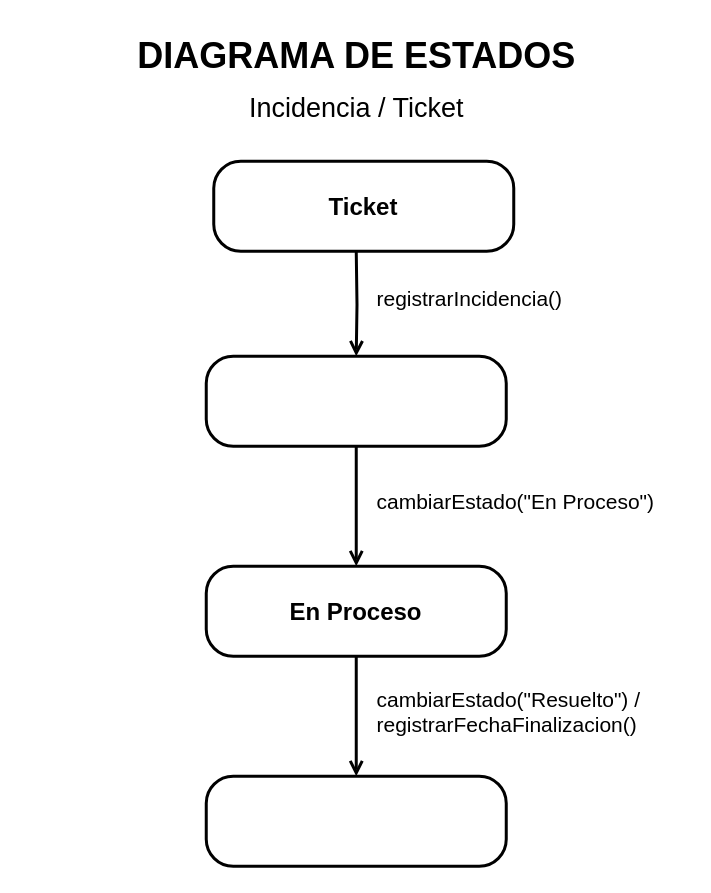
Some shapes in this 711 by 893 pixel diagram are drawn without their labels. Here are the shapes that lost their labels. From the top down, the box of each, then its label:
(204, 354, 507, 447): Pendiente
(204, 774, 507, 867): Resuelto
